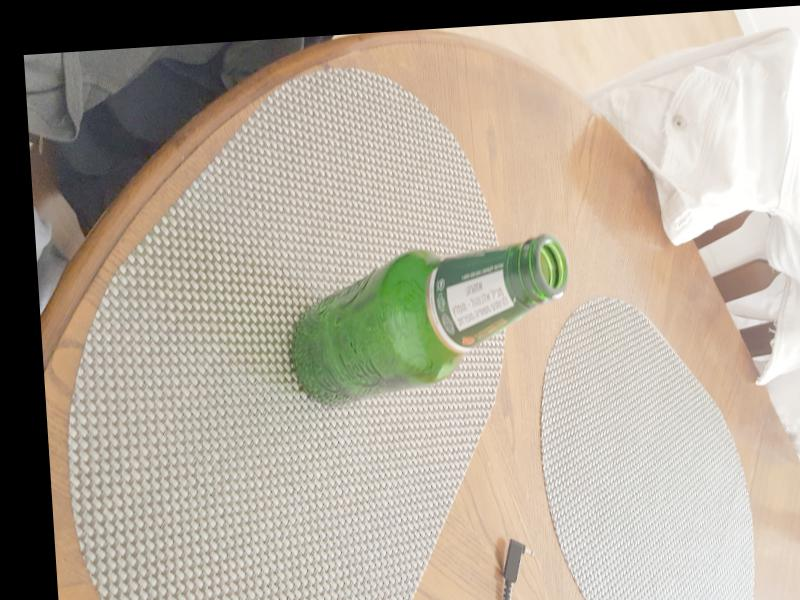Beer: (285, 244, 572, 409)
